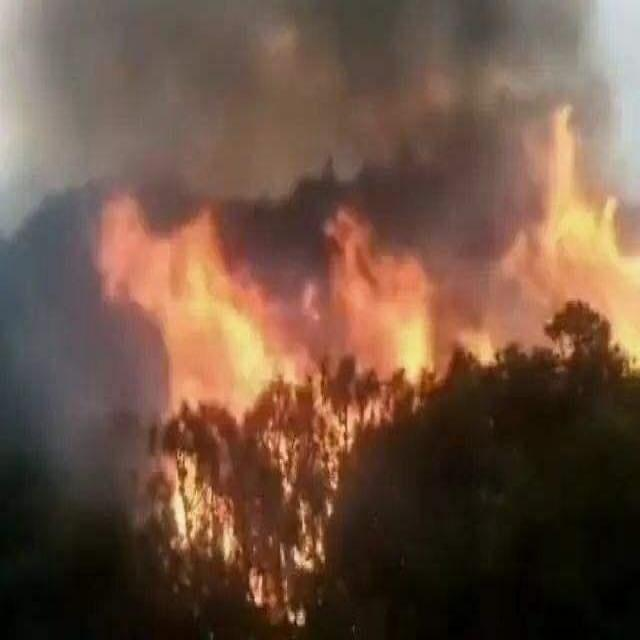fire: (100, 113, 420, 616), (402, 82, 638, 380)
smoke: (63, 2, 569, 205)
